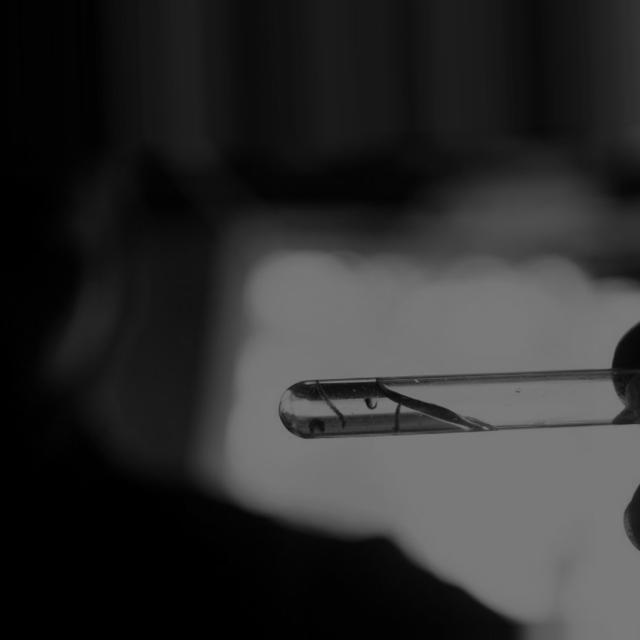larvas: (318, 381, 348, 425), (392, 398, 403, 434), (308, 419, 326, 433), (366, 396, 378, 411)
